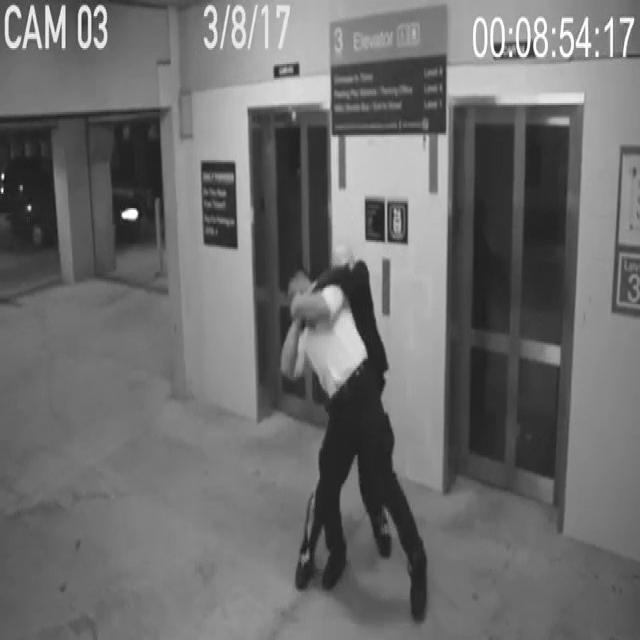fight: (279, 250, 430, 626)
